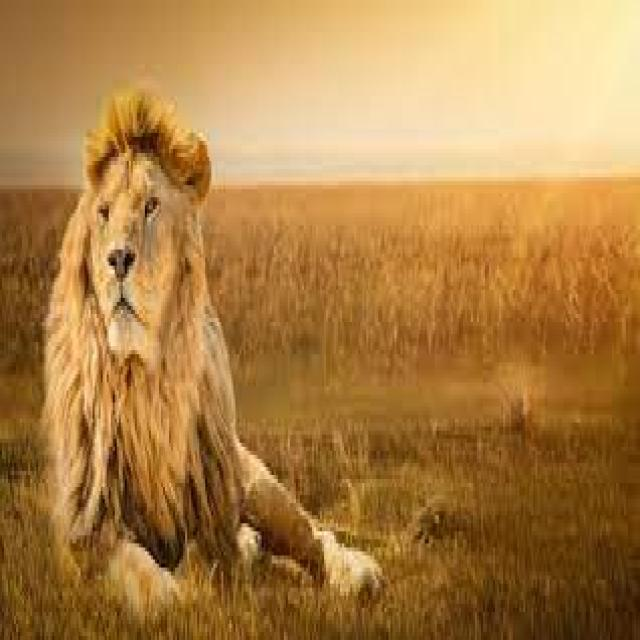Carnivorous: (36, 89, 382, 640)
